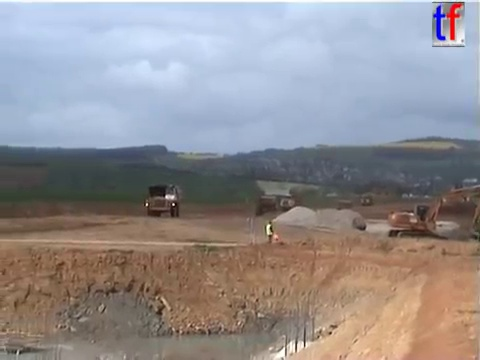excavator: (385, 184, 480, 246)
truck: (142, 183, 182, 218), (253, 193, 279, 216), (278, 191, 299, 212), (334, 198, 353, 215), (358, 194, 373, 206)
worker: (263, 219, 277, 245)
